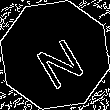N_NW: (25, 23, 85, 87)
